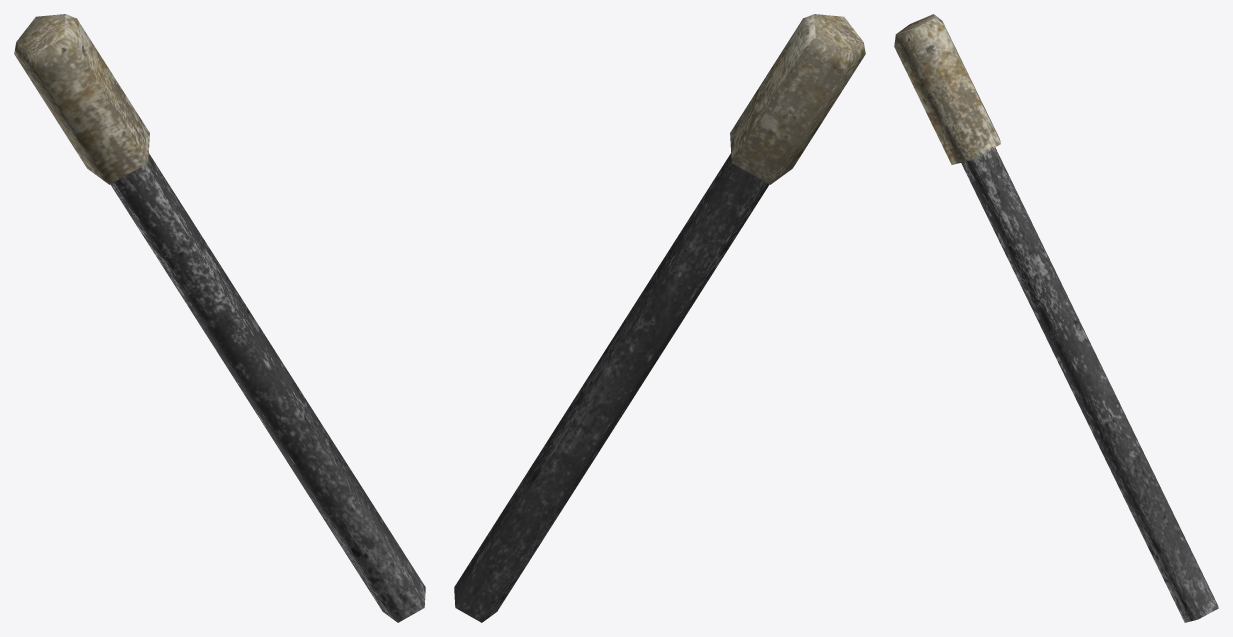
The model's file is Lever.obj.
3 renders of one model, left to right at view 1: azimuth 30°, elevation 25°; view 2: azimuth 150°, elevation 25°; view 3: azimuth 330°, elevation 25°, orthographic. The views are drawn at different scales.
Bounding box in the file's own units: 52.98 × 86.22 × 8.28.
2 materials, 2 textured.
